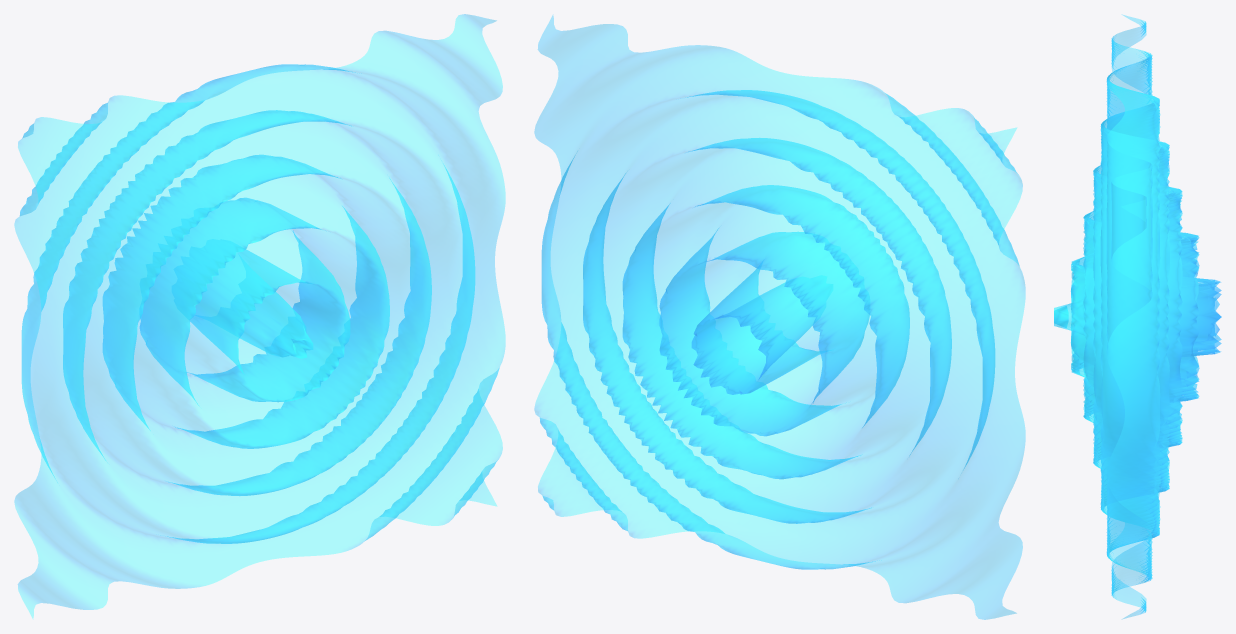
File: neural_wave_animated.glb
3 renders of one model, left to right at view 1: azimuth 30°, elevation 25°; view 2: azimuth 150°, elevation 25°; view 3: azimuth 270°, elevation 25°, orthographic. The views are drawn at different scales.
Parts seen in each view (by area): view 1: NeuralWaveNode; view 2: NeuralWaveNode; view 3: NeuralWaveNode.
Part boxes in pixels (x1=…): NeuralWaveNode: x1=14, y1=14, x2=505, y2=618; NeuralWaveNode: x1=534, y1=15, x2=1025, y2=619; NeuralWaveNode: x1=1054, y1=14, x2=1221, y2=619.
Size of the model in its own units: 200 by 200 by 73.63.
